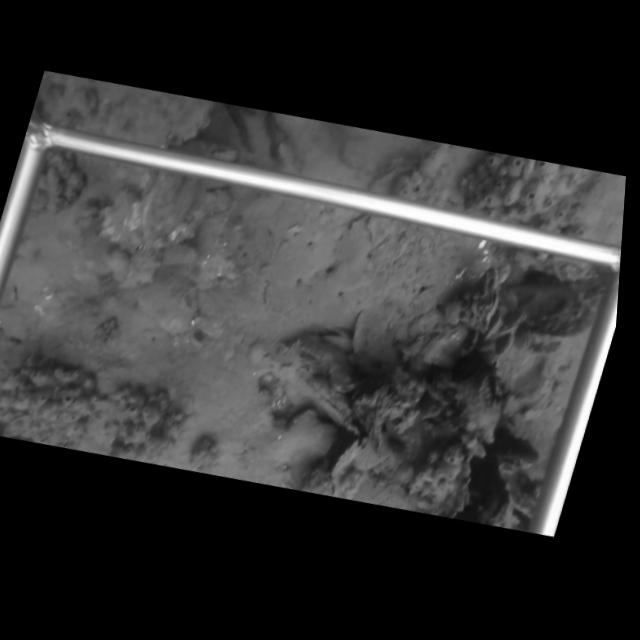Oyster-Closed: (257, 346, 358, 433), (493, 329, 516, 359)
Oyster-Indeterminate: (140, 136, 209, 248), (442, 266, 499, 336), (418, 327, 468, 369)
Oyster-Open: (315, 325, 351, 353)
